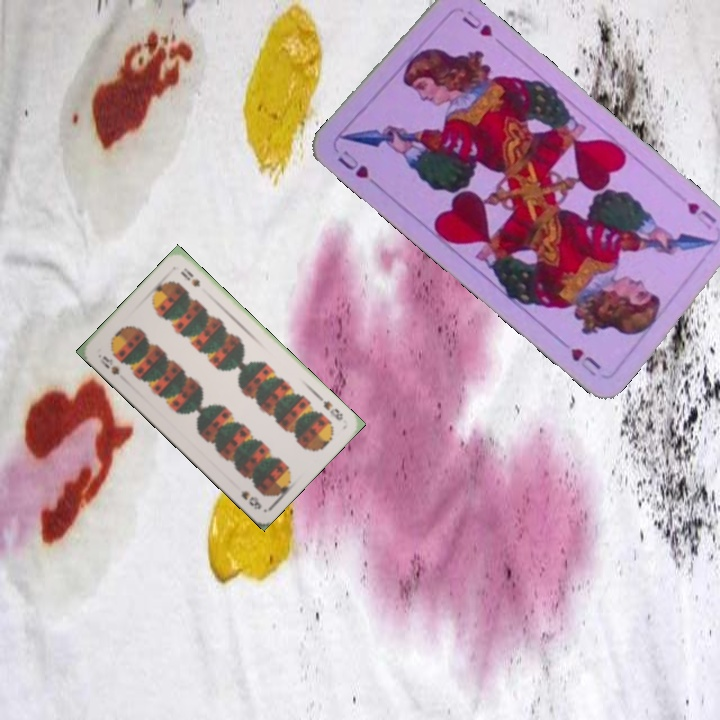HU: (333, 146, 381, 190), (682, 197, 719, 226)
S8: (319, 397, 346, 423), (96, 351, 122, 377)
